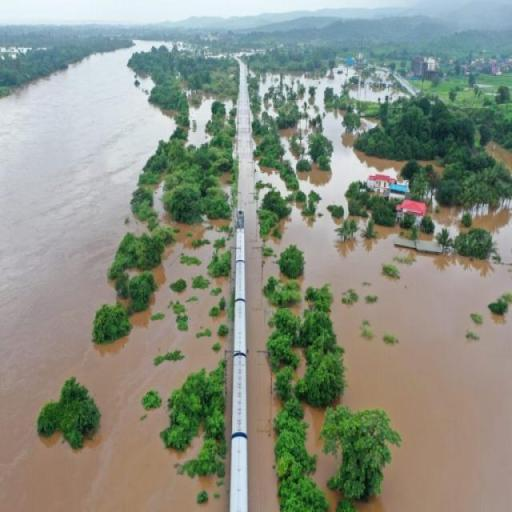flood: (235, 64, 512, 512), (0, 41, 234, 512), (352, 72, 407, 100), (187, 96, 214, 144), (430, 205, 469, 236), (488, 143, 512, 168)
house: (394, 198, 428, 238), (366, 169, 404, 198)
